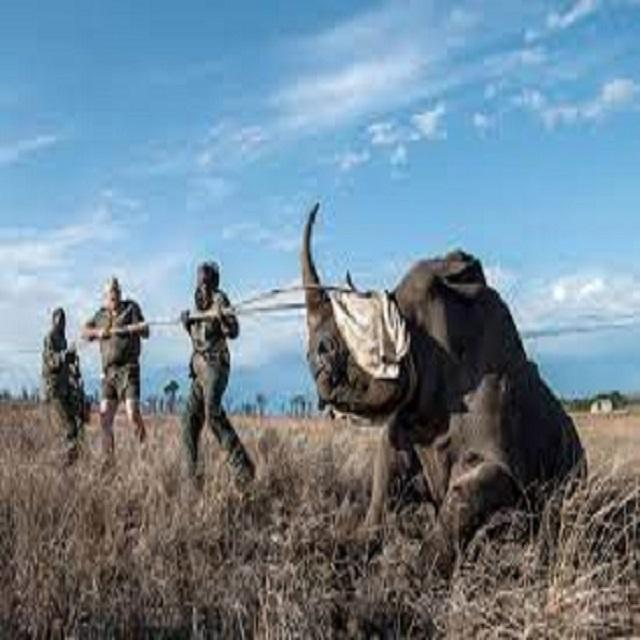poacher: (161, 237, 294, 518), (75, 248, 177, 485), (12, 285, 106, 496)
rhino: (259, 181, 620, 598)
